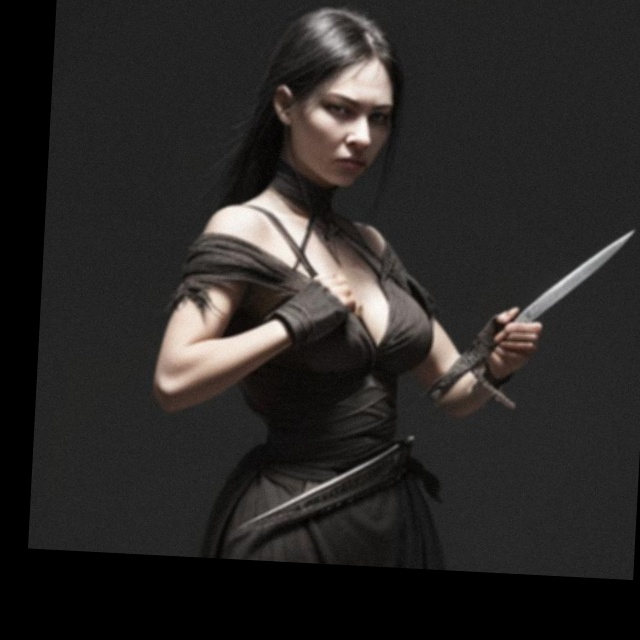Sharp-Object: (482, 219, 637, 362)
